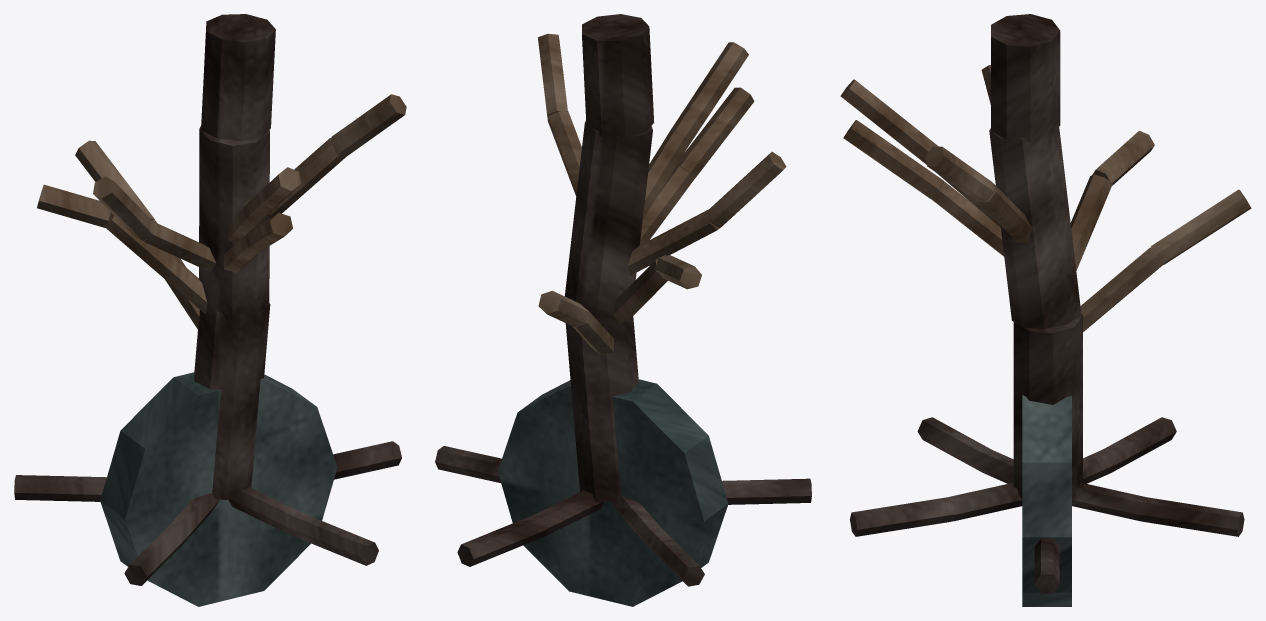
File: 0129_dead_tree_04.glb
3 renders of one model, left to right at view 1: azimuth 30°, elevation 25°; view 2: azimuth 150°, elevation 25°; view 3: azimuth 270°, elevation 25°, orthographic. The views are drawn at different scales.
Parts seen in each view (by area): view 1: wood_dark, stone_dark, wood; view 2: wood_dark, stone_dark, wood; view 3: wood_dark, wood, stone_dark.
Boxes of the visible parts, x1=… form: wood_dark: x1=14, y1=14, x2=401, y2=585; stone_dark: x1=100, y1=372, x2=337, y2=606; wood: x1=37, y1=94, x2=406, y2=329; wood_dark: x1=435, y1=14, x2=811, y2=586; stone_dark: x1=497, y1=379, x2=728, y2=606; wood: x1=538, y1=33, x2=786, y2=355; wood_dark: x1=850, y1=14, x2=1244, y2=593; wood: x1=840, y1=65, x2=1251, y2=331; stone_dark: x1=1022, y1=395, x2=1071, y2=606.
Size of the model in its own units: 1.67 by 2.77 by 1.82.
Materials: 3 (3 with a texture image).
